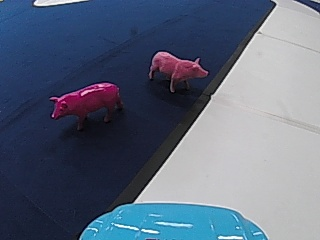pig: (47, 79, 124, 130), (145, 48, 210, 92)
